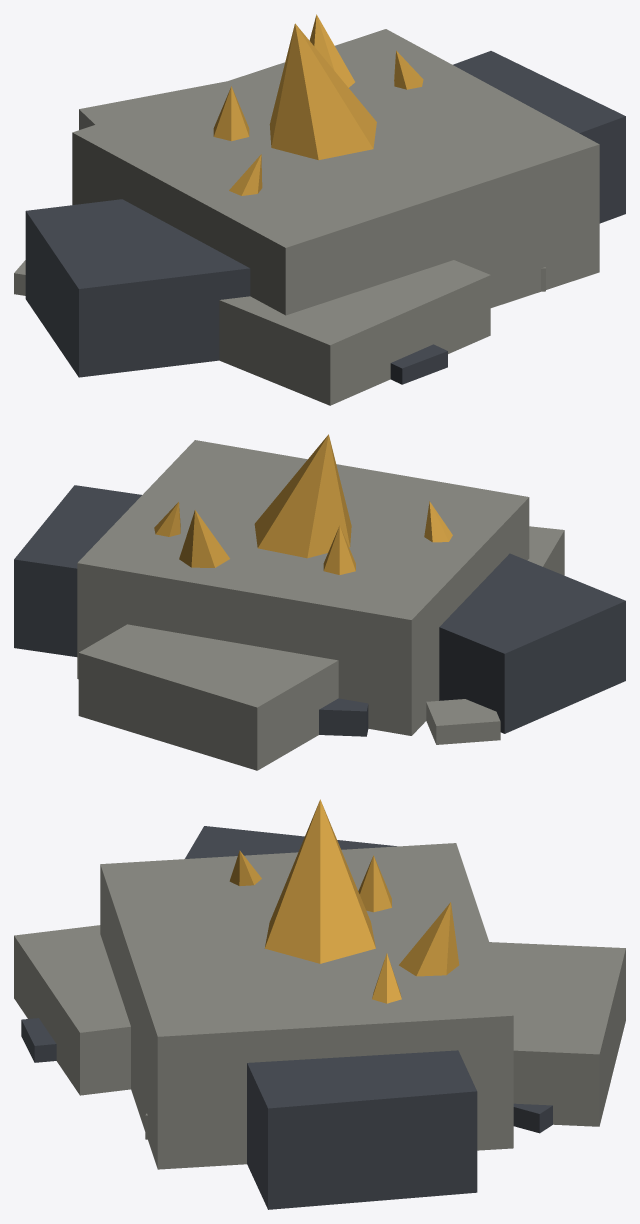
File: ore_node.glb
The picture shows the model from 3 angles, top to bottom: view 1: azimuth 30°, elevation 25°; view 2: azimuth 150°, elevation 25°; view 3: azimuth 270°, elevation 25°; orthographic projection. The views are drawn at different scales.
Visible parts, largest first — view 1: ore_node; view 2: ore_node; view 3: ore_node.
Part boxes in pixels (left/top/right/bottom): ore_node: left=14, top=14, right=625, bottom=405; ore_node: left=14, top=434, right=625, bottom=770; ore_node: left=14, top=799, right=625, bottom=1209.
Bounding box in the file's own units: 5.2 × 2.12 × 4.6.
